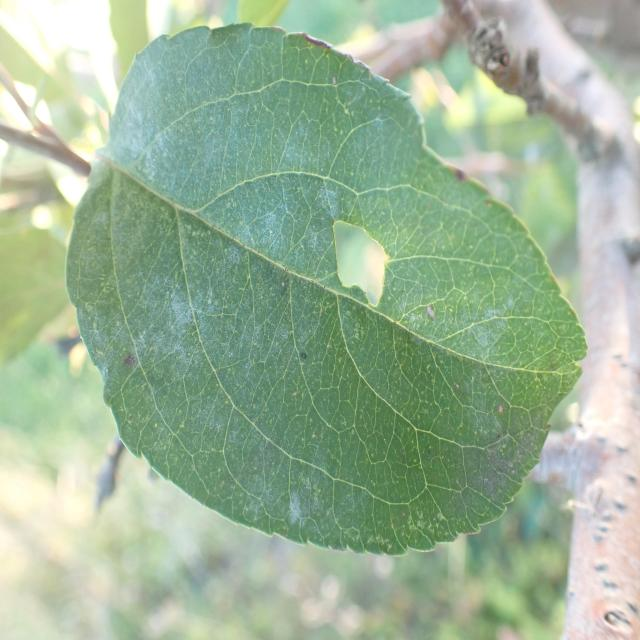Black Rot: (317, 188, 419, 352)
Powdery_mildew: (80, 28, 600, 567)
